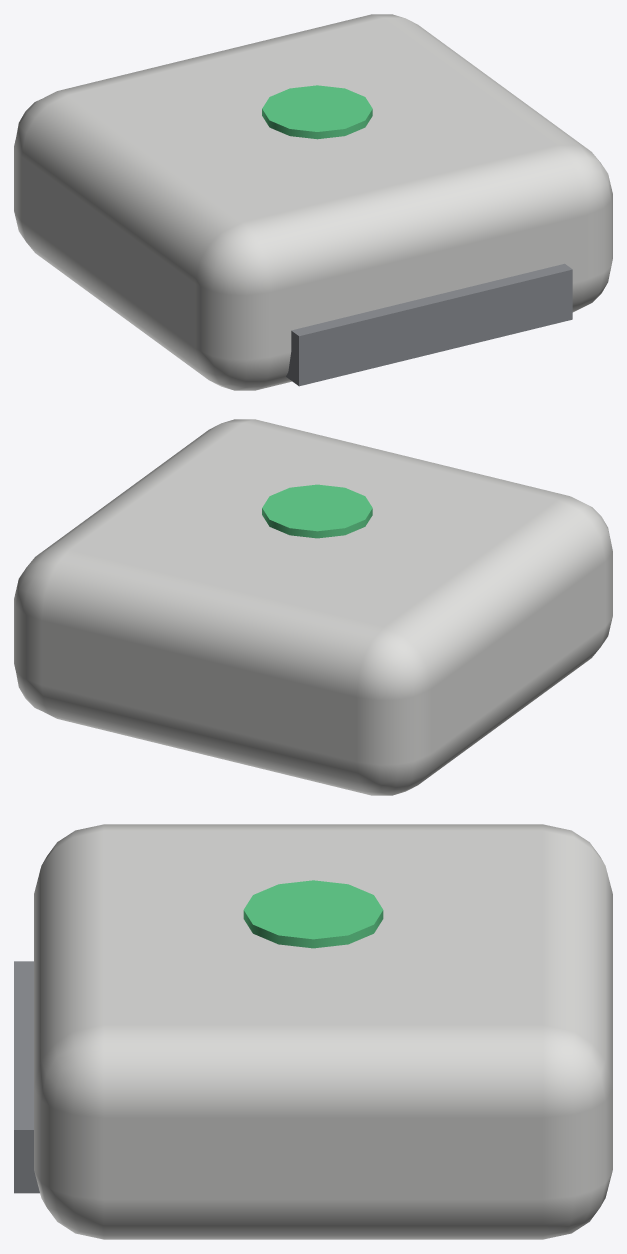
File: gateway-lite.glb
The picture shows the model from 3 angles, top to bottom: view 1: azimuth 30°, elevation 25°; view 2: azimuth 150°, elevation 25°; view 3: azimuth 270°, elevation 25°; orthographic projection. The views are drawn at different scales.
Visible parts, largest first — view 1: material-0-body, material-3-metal, material-2-lit; view 2: material-0-body, material-2-lit; view 3: material-0-body, material-2-lit, material-3-metal.
Boxes of the visible parts, <box> form: material-0-body: <box>14,14,612,390</box>; material-3-metal: <box>286,263,572,386</box>; material-2-lit: <box>262,85,372,139</box>; material-0-body: <box>14,419,612,795</box>; material-2-lit: <box>262,484,372,538</box>; material-0-body: <box>34,824,612,1239</box>; material-2-lit: <box>243,880,383,948</box>; material-3-metal: <box>14,961,39,1193</box>.
Size of the model in its own units: 0.12 by 0.05 by 0.12.
